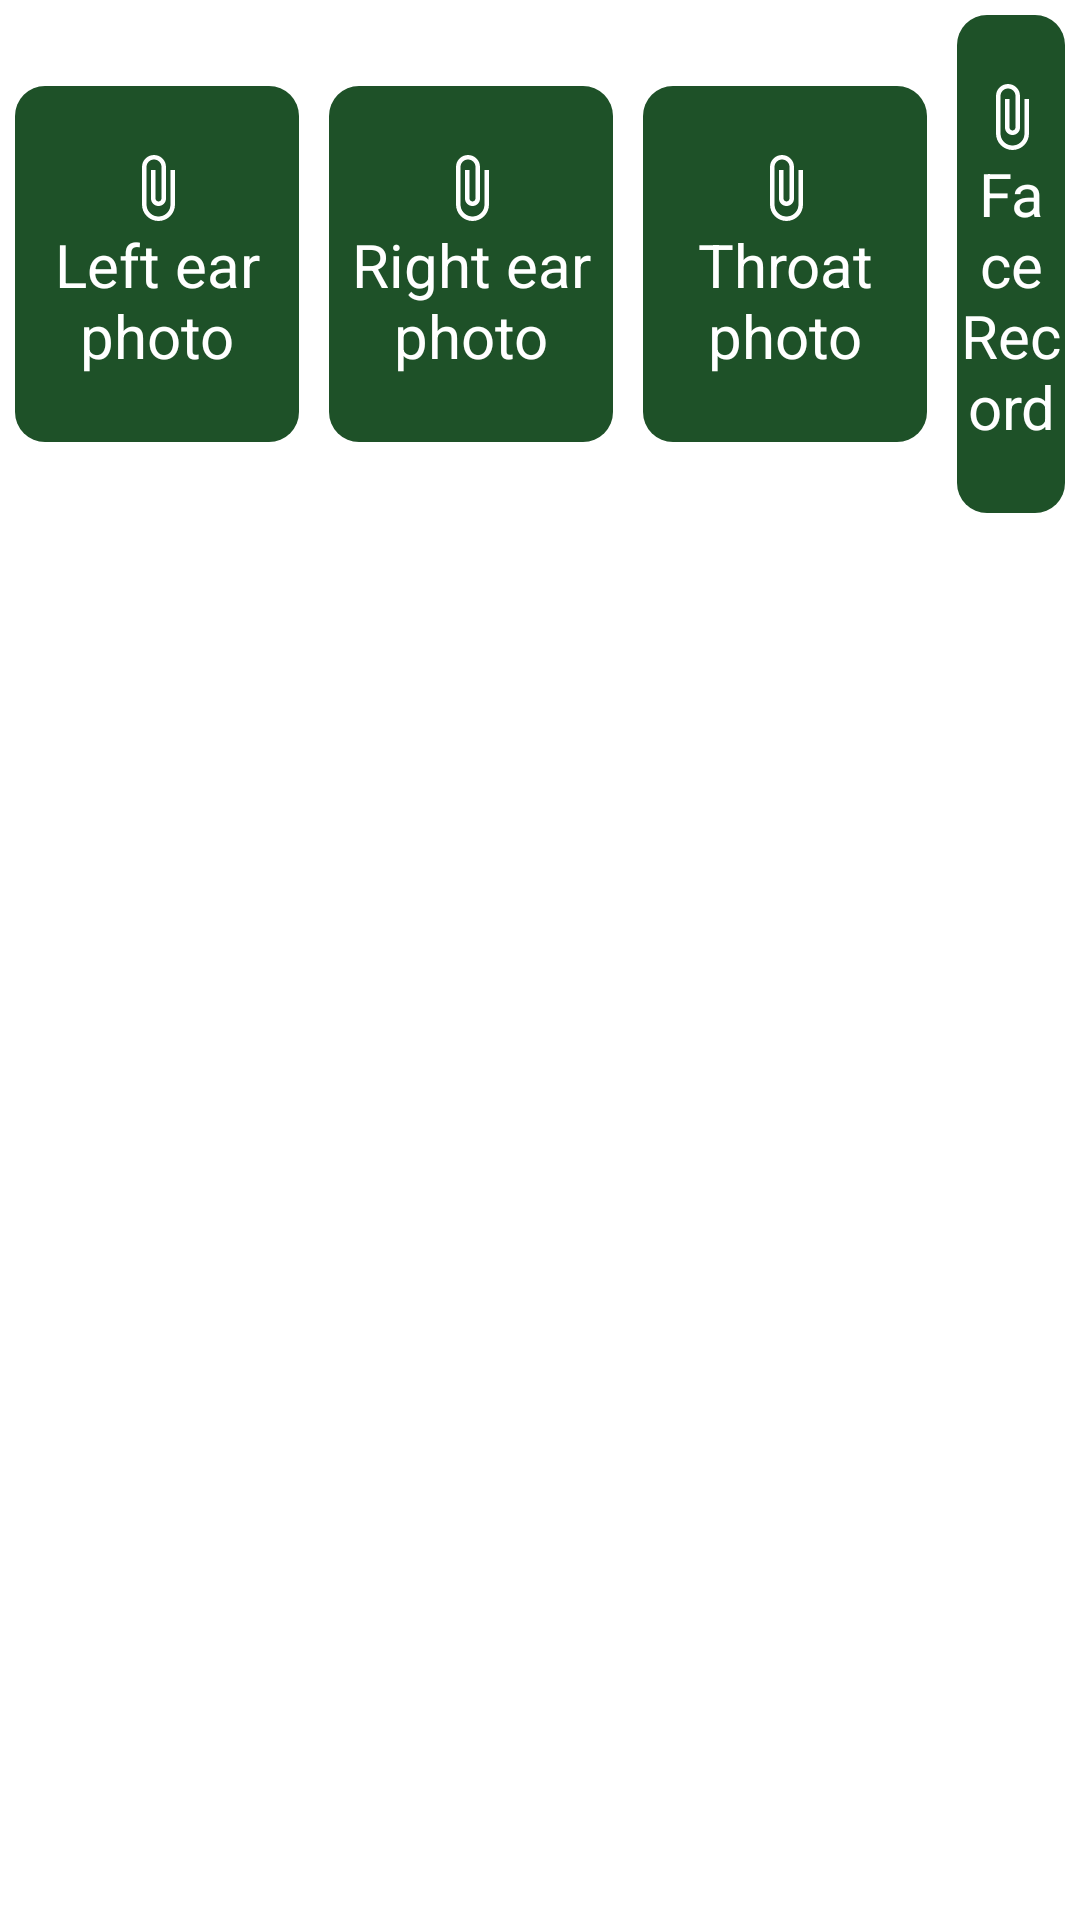

Screen size 1080px x 1920px. Icon name, then its box in pixels as (x1, y1, x2, y2):
attach: (996, 84, 1029, 150), (142, 155, 175, 221), (456, 155, 489, 221), (770, 155, 803, 221)
